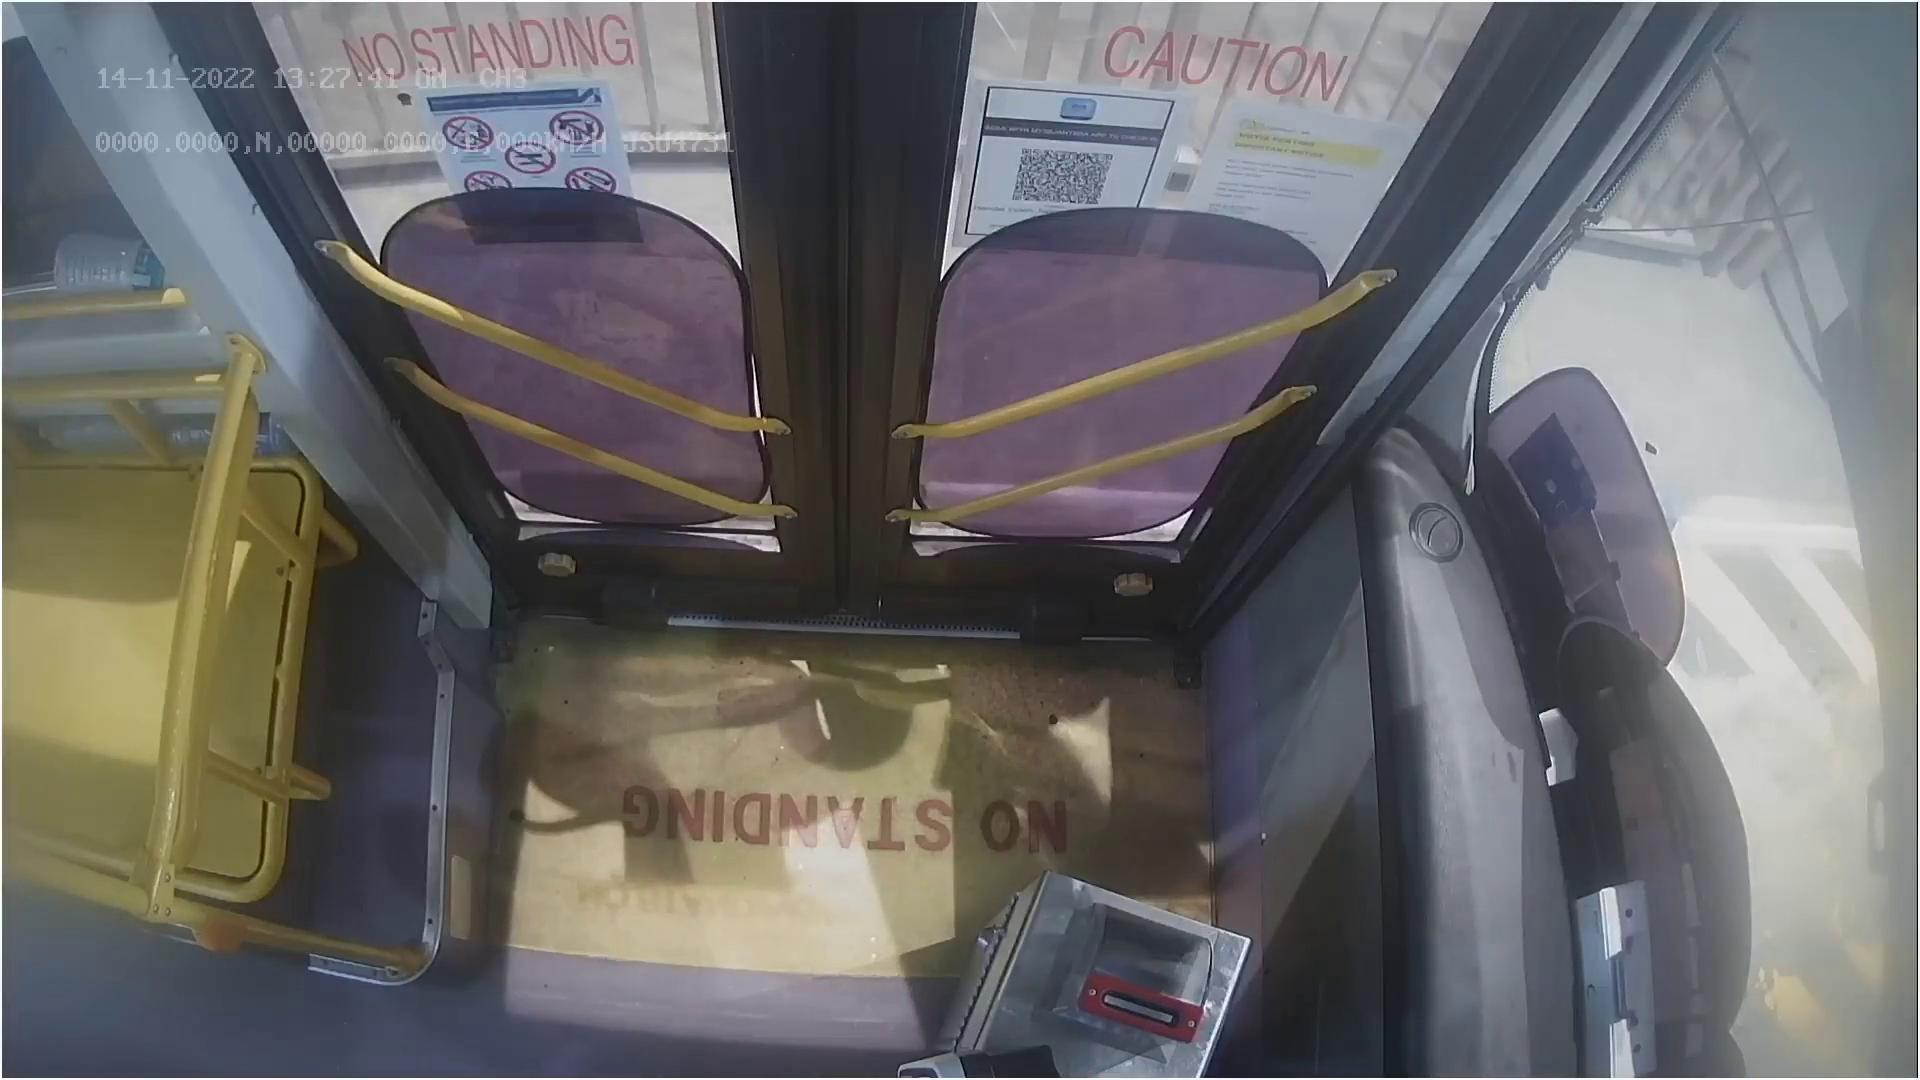close: (282, 0, 1441, 162)
